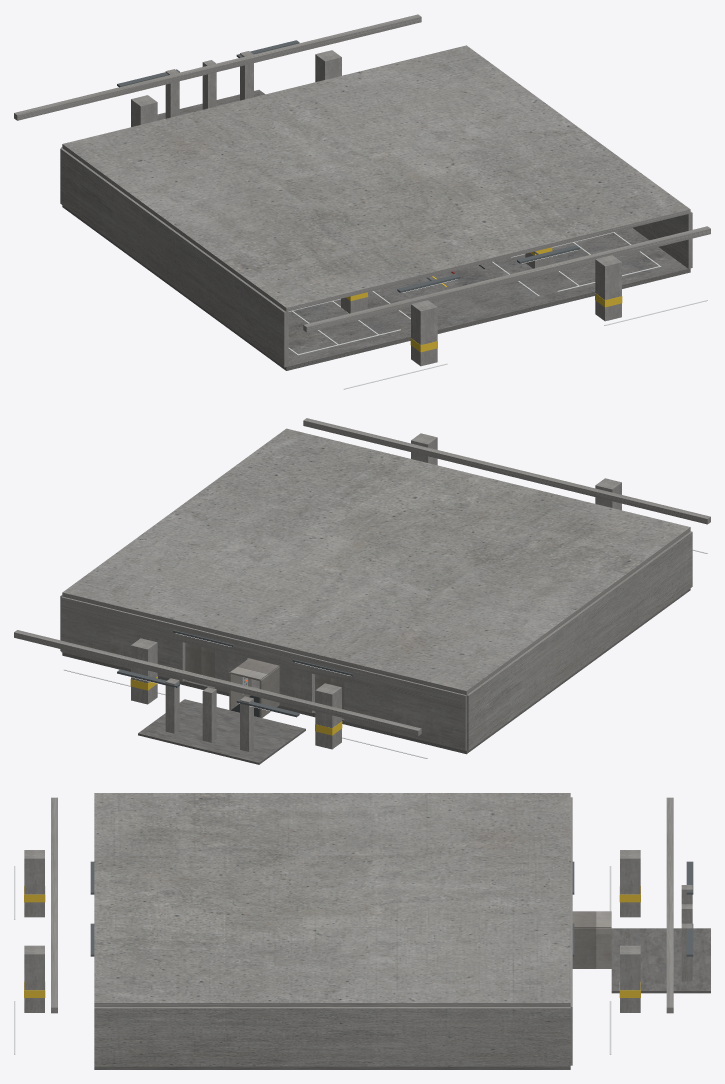
File: 03_passenger_cab_void.glb
3 renders of one model, top to bottom at view 1: azimuth 30°, elevation 25°; view 2: azimuth 150°, elevation 25°; view 3: azimuth 270°, elevation 25°, orthographic. The views are drawn at different scales.
Parts seen in each view (by area): view 1: Concrete ceiling, Concrete floor, Left retaining wall, Overhead beam.004, Overhead beam, Right retaining wall, Concrete support column.005, Concrete support column, Concrete support column.009, Concrete support column.004, Rear garage column.001; view 2: Concrete ceiling, Left retaining wall, Landing wall upper strip, Impossible rear opening floor, Landing wall pier, Overhead beam.004, Overhead beam, Landing wall pier.003, Concrete floor, Concrete support column.004, Concrete support column.009, Landing wall pier.001 (+6 smaller); view 3: Concrete ceiling, Right retaining wall, Impossible rear opening floor, Concrete floor, Overhead beam.004, Elevator cab right wall, Overhead beam, Concrete support column, Concrete support column.004, Concrete support column.005, Concrete support column.009, Landing wall upper strip (+2 smaller).
Boxes of the visible parts, <box> form: Concrete ceiling: <box>62,45,690,311</box>; Concrete floor: <box>62,205,690,370</box>; Left retaining wall: <box>60,148,288,367</box>; Overhead beam.004: <box>14,14,421,120</box>; Overhead beam: <box>303,226,710,332</box>; Right retaining wall: <box>632,212,692,268</box>; Concrete support column.005: <box>595,255,621,321</box>; Concrete support column: <box>411,300,437,366</box>; Concrete support column.009: <box>315,50,341,81</box>; Concrete support column.004: <box>131,95,157,126</box>; Rear garage column.001: <box>202,60,216,109</box>; Concrete ceiling: <box>62,428,690,694</box>; Left retaining wall: <box>466,531,692,750</box>; Landing wall upper strip: <box>61,596,466,710</box>; Impossible rear opening floor: <box>138,699,305,764</box>; Landing wall pier: <box>344,681,466,750</box>; Overhead beam.004: <box>14,630,421,736</box>; Overhead beam: <box>303,418,710,524</box>; Landing wall pier.003: <box>61,612,185,681</box>; Concrete floor: <box>62,588,690,754</box>; Concrete support column.004: <box>315,683,341,749</box>; Concrete support column.009: <box>131,638,157,704</box>; Landing wall pier.001: <box>279,666,314,713</box>; Concrete ceiling: <box>94,793,570,1006</box>; Right retaining wall: <box>94,1007,570,1066</box>; Impossible rear opening floor: <box>611,928,710,993</box>; Concrete floor: <box>94,1066,570,1069</box>; Overhead beam.004: <box>666,797,673,1013</box>; Elevator cab right wall: <box>572,928,611,968</box>; Overhead beam: <box>51,797,57,1013</box>; Concrete support column: <box>24,850,44,917</box>; Concrete support column.004: <box>620,850,640,917</box>; Concrete support column.005: <box>24,945,44,1012</box>; Concrete support column.009: <box>620,945,640,1012</box>; Landing wall upper strip: <box>570,797,572,1023</box>.
Size of the model in its own units: 25.26 by 3.73 by 35.1.
Materials: 13 (3 with a texture image).
